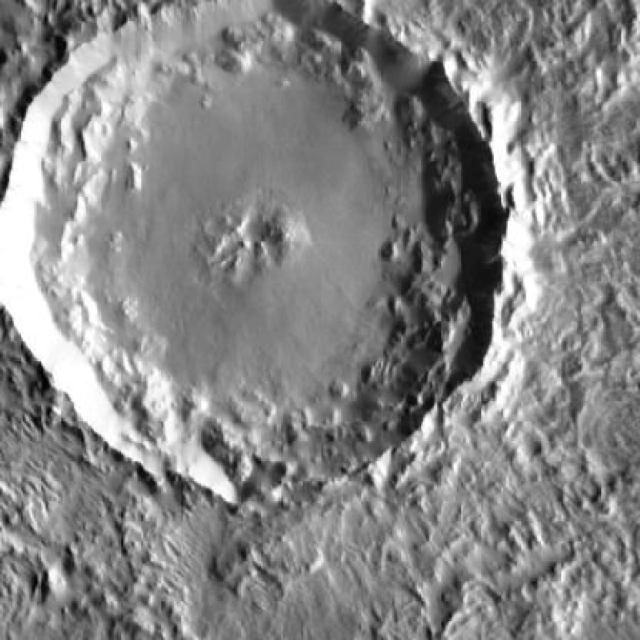crater: (0, 0, 507, 498)
